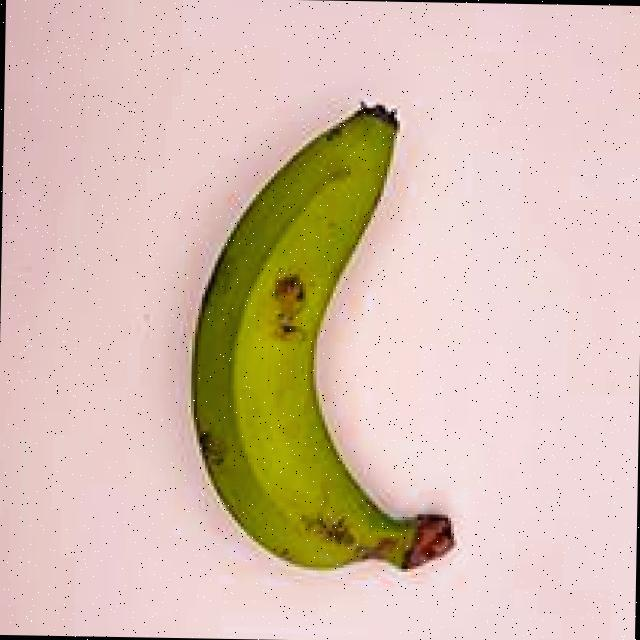Raw: (143, 73, 483, 608)
